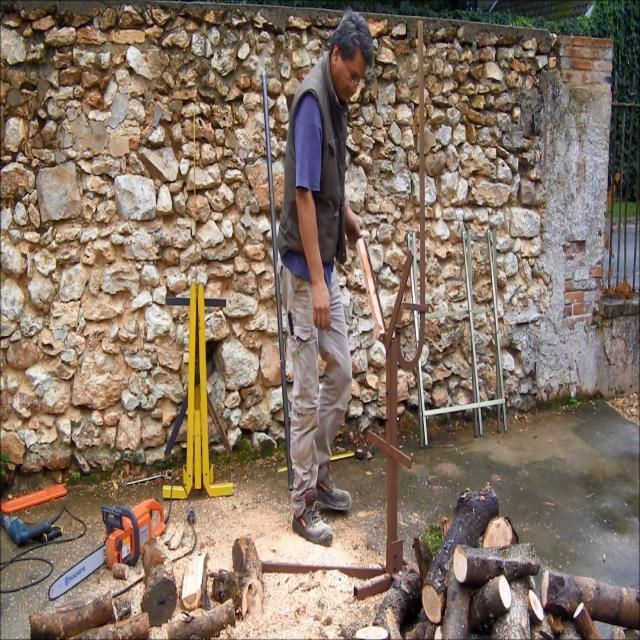Chainsaw: (40, 450, 185, 636)
